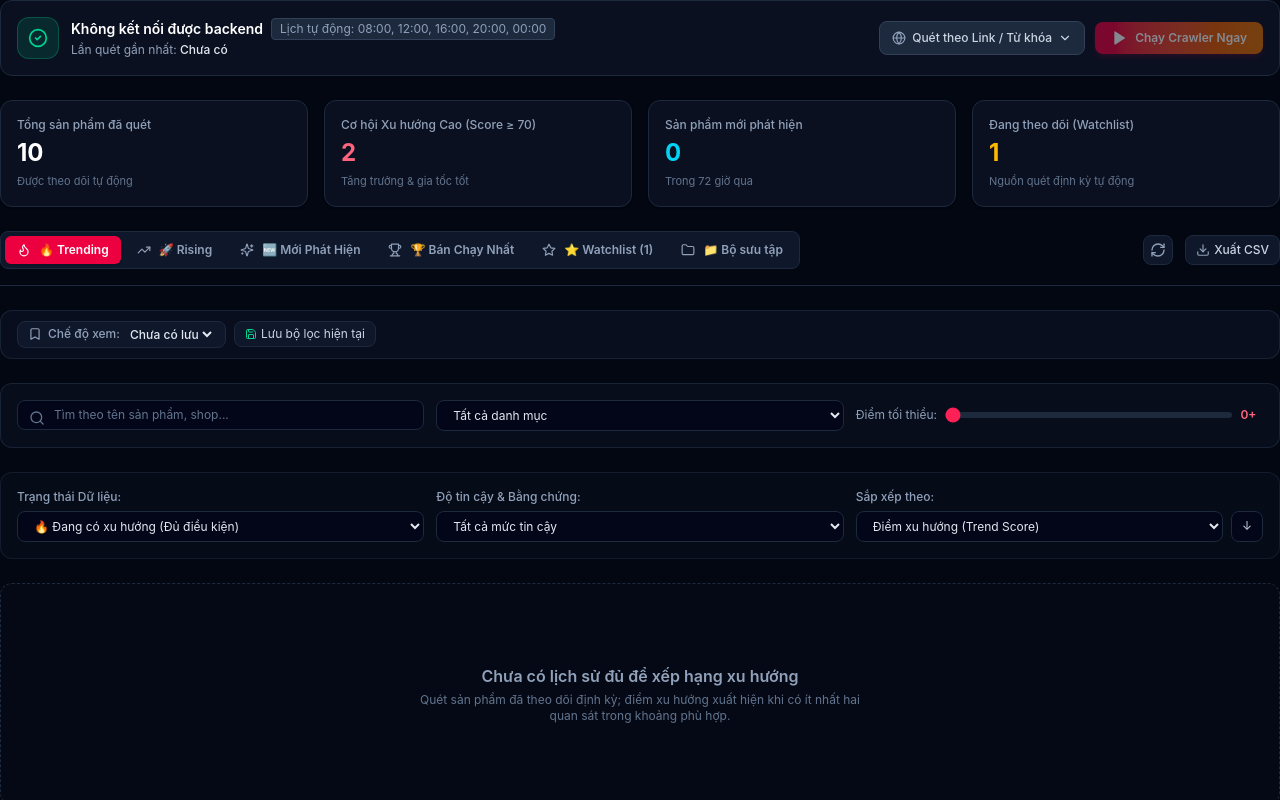
Test case: Phase 3 Frontend: Watchlist & Alerts Suite › Dashboard Watchlist Tab › switches to Watchlist tab and fetches watchlist data
Find and click Watchlist tab
Click the button "⭐ Watchlist (1)" at (598, 250), box [530,236,665,264]
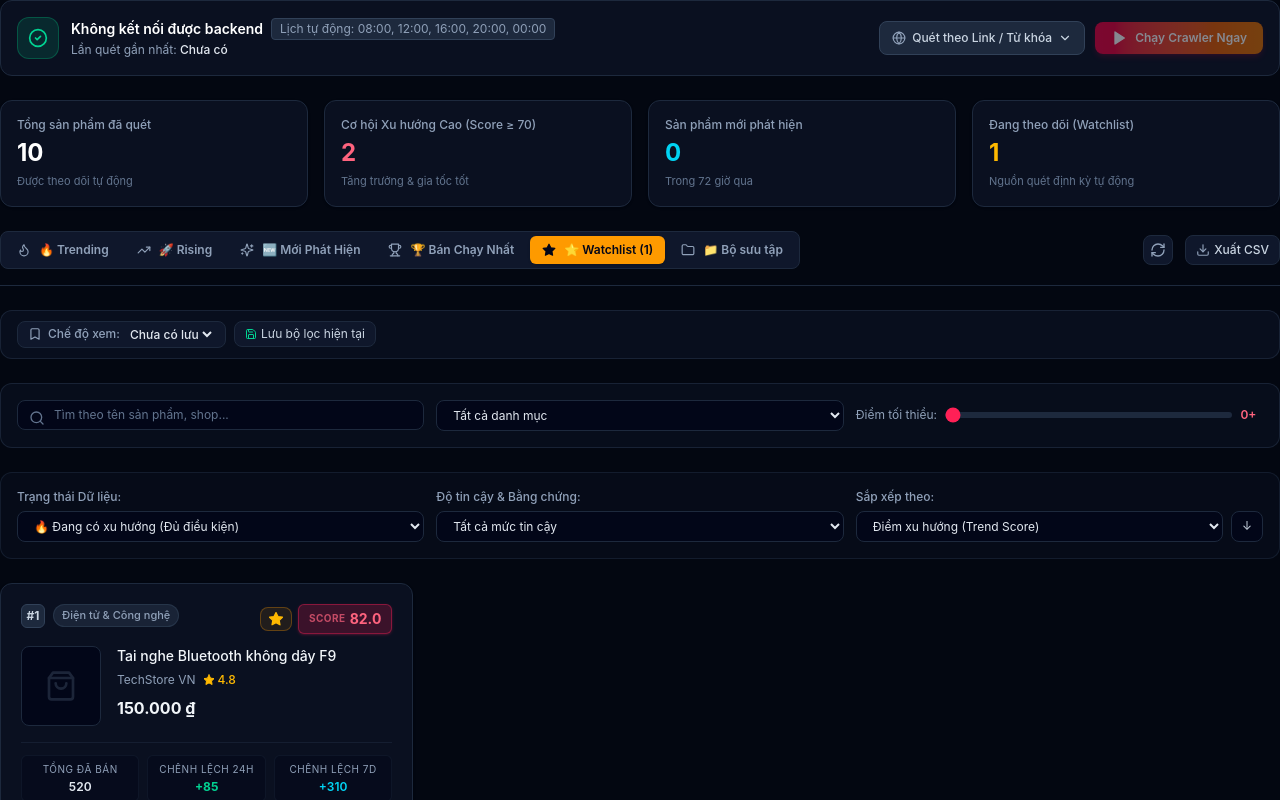
expect the link "Tai nghe Bluetooth không dây F9" is shown: met, box [117,646,336,664]
